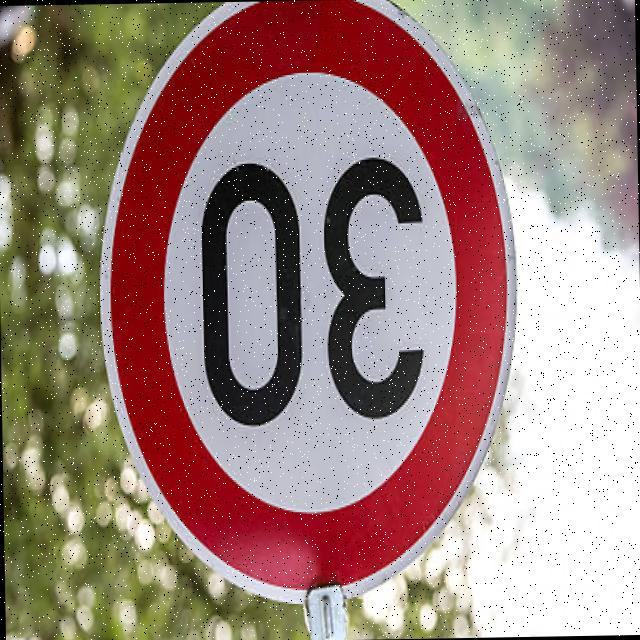speed_limit_30: (71, 0, 523, 621)
